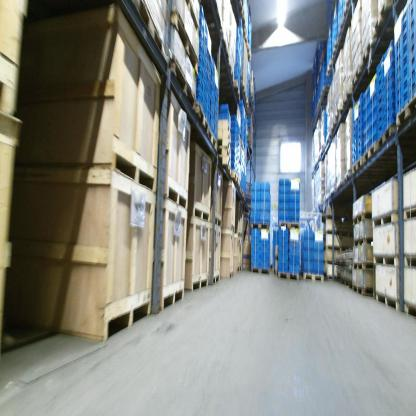pallet: (123, 0, 171, 65), (167, 11, 200, 76), (351, 156, 410, 181), (363, 141, 415, 168), (171, 55, 195, 109), (362, 35, 396, 67), (372, 4, 404, 33), (351, 62, 384, 90), (393, 90, 414, 131), (377, 126, 408, 151), (189, 99, 208, 136), (344, 86, 370, 111), (179, 2, 201, 30), (212, 83, 242, 103), (211, 59, 237, 82), (335, 105, 363, 126), (337, 18, 358, 39), (217, 153, 234, 176), (232, 1, 248, 25), (332, 39, 350, 59), (350, 258, 375, 270), (351, 283, 374, 296), (326, 57, 340, 77), (353, 210, 371, 225), (236, 83, 248, 105), (301, 270, 323, 282), (321, 83, 333, 104), (208, 127, 217, 155), (352, 236, 374, 247), (217, 146, 232, 162), (219, 120, 232, 138), (219, 136, 231, 155), (343, 0, 357, 16), (218, 128, 231, 145), (313, 108, 328, 122), (277, 220, 300, 229), (239, 23, 248, 45), (245, 92, 256, 110), (245, 140, 255, 159), (328, 119, 339, 136), (317, 98, 330, 112), (278, 272, 300, 280), (251, 266, 270, 275), (226, 170, 239, 182), (340, 277, 352, 290), (342, 172, 355, 184), (251, 222, 269, 230), (321, 136, 333, 148), (246, 46, 252, 59), (234, 182, 240, 192), (238, 187, 244, 196), (240, 194, 246, 202)
